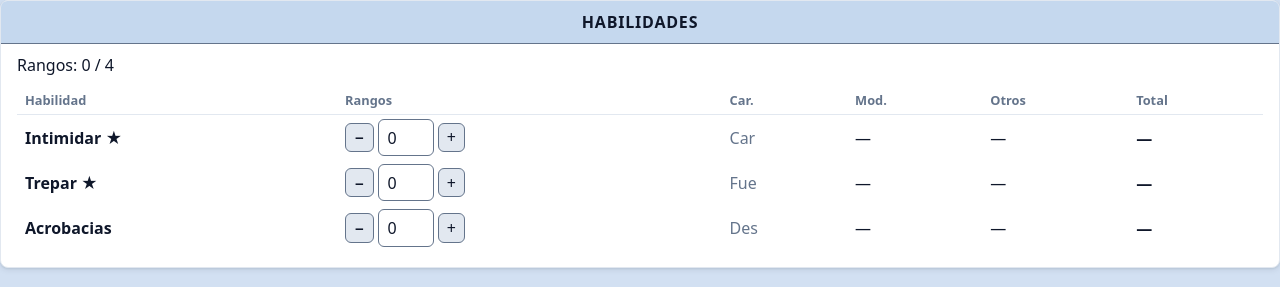
Scenario: SkillsSection › marks class skills and increments ranks
This screenshot has width=1280, height=287.
Check: the row "Intimidar ★ − + Car — — —" is shown, box left=17, top=114, right=1263, bottom=160
Step 1. Click the button named "Subir rango de Intimidar" → (451, 138), box left=438, top=123, right=465, bottom=152
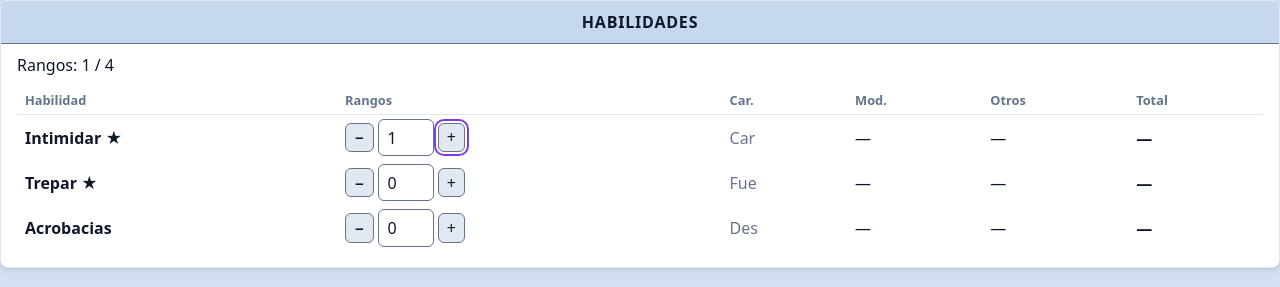
Check: the message reads "Rangos: 1 / 4", box left=17, top=54, right=114, bottom=76
